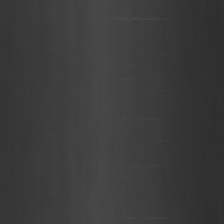waist_folding: (114, 17, 183, 200)
